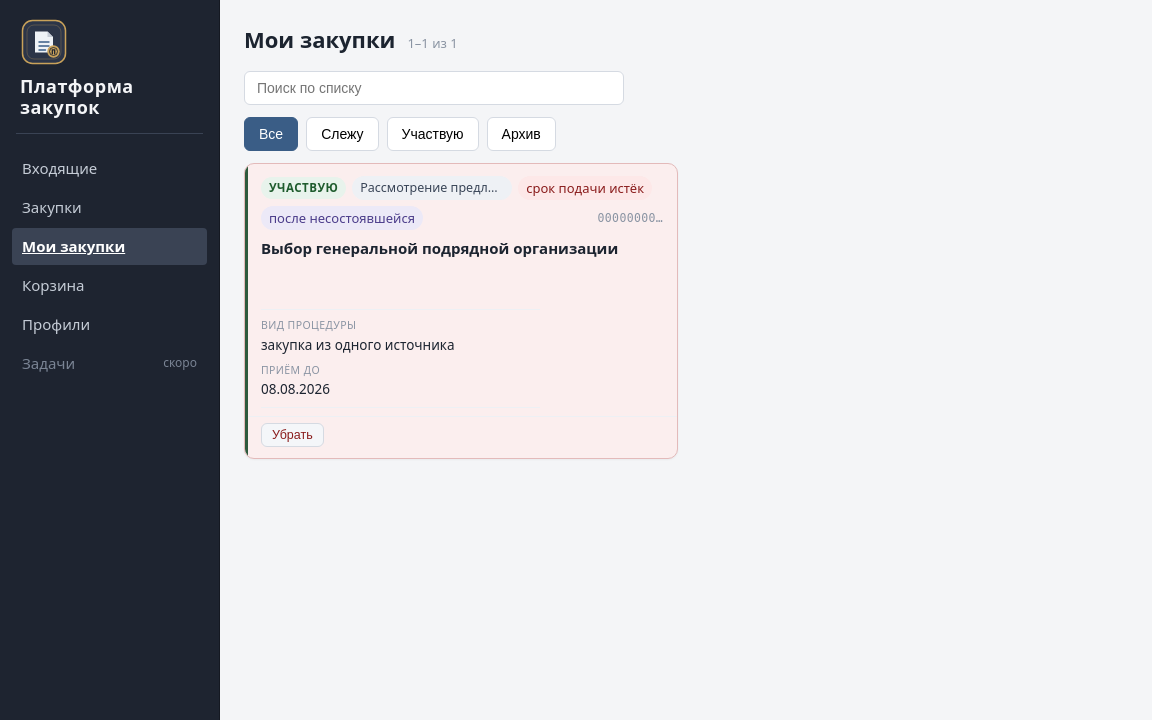
Test: MyProcurementsApp › does not remove a card when the confirmation is declined
The image size is (1152, 720).
Step 1. Click the button "Убрать" → click(292, 435), box left=261, top=423, right=324, bottom=447
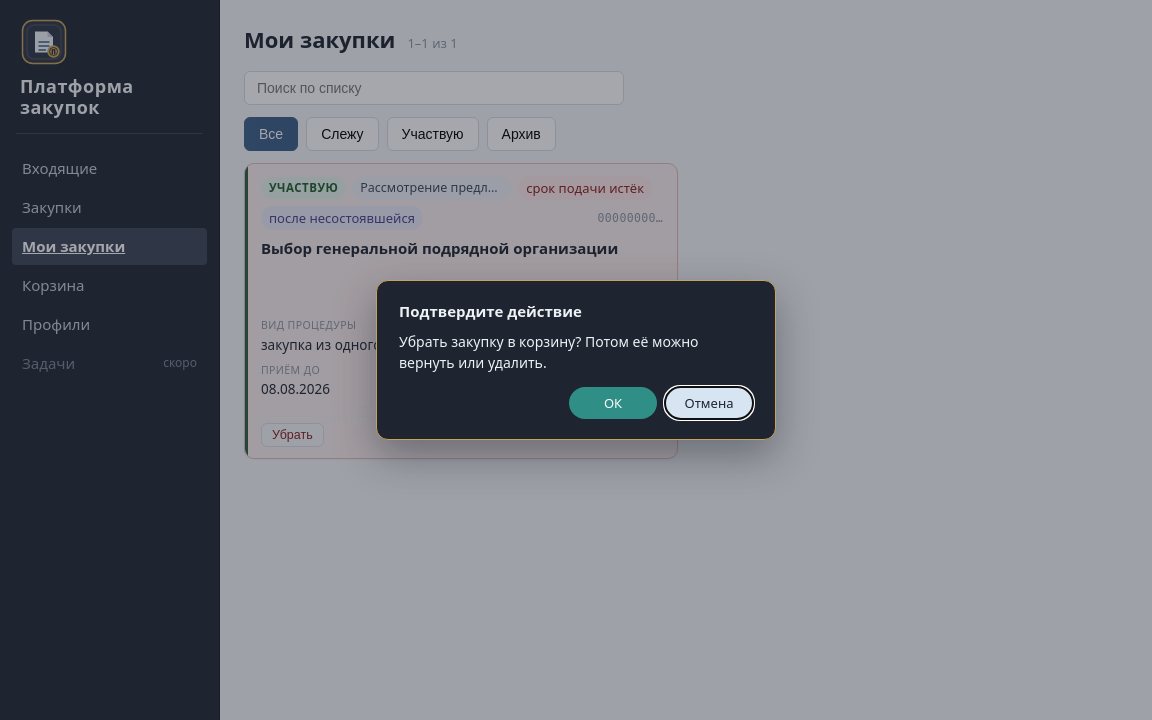
Step 2. Click the button "Отмена" → click(709, 403), box left=665, top=387, right=753, bottom=419
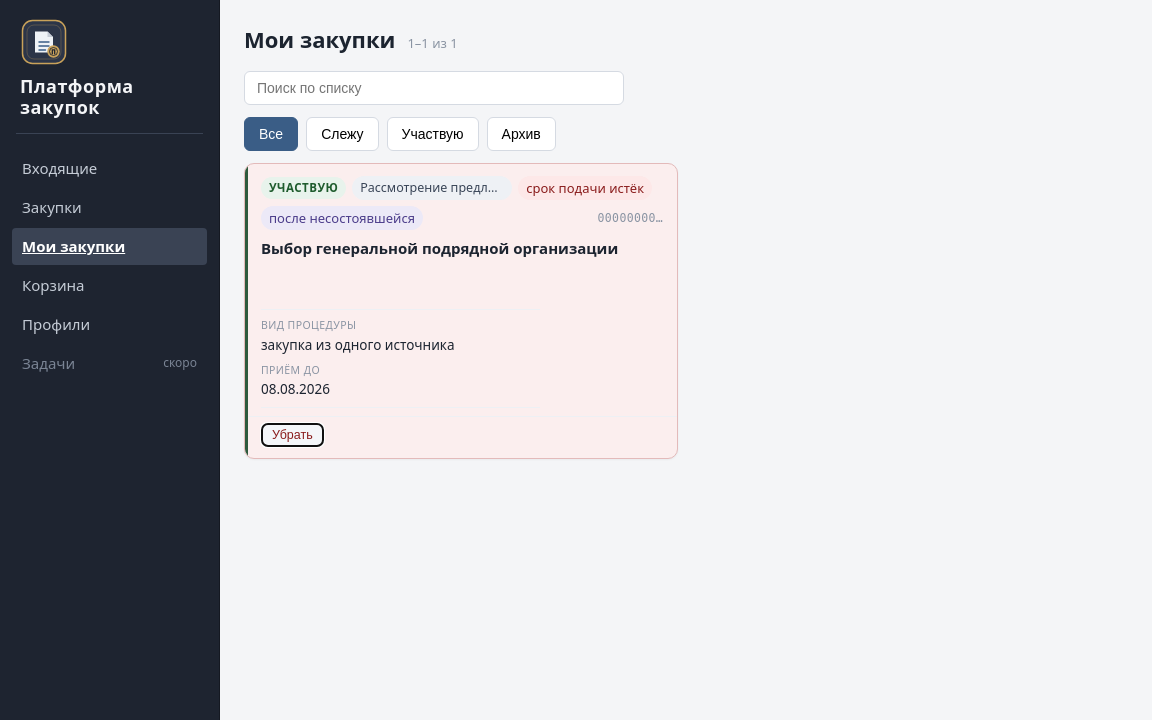
Expected: the dialog is gone
